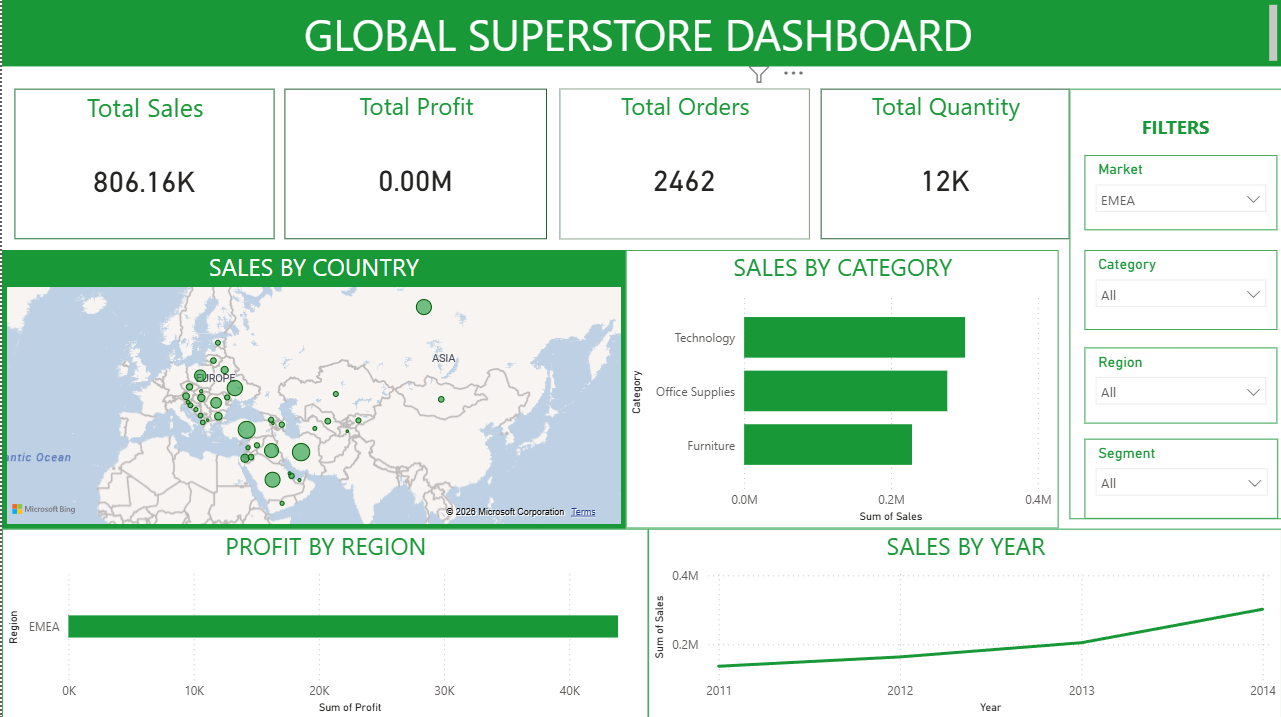

This screenshot's page, from the dashboard's own definition file:
{"tool":"powerbi","page":{"name":"Page 1","canvas":[1280,720],"ordinal":0},"visuals":[{"type":"card","title":"Total Sales","fields":{"Values":["Sum(Global_Superstore_Cleaned.Sales)"]},"box":[12.5,88.8,260,150],"z":0},{"type":"card","title":"Total Profit","fields":{"Values":["Count(Global_Superstore_Cleaned.Profit)"]},"box":[282.5,88.8,262.5,150],"z":1000},{"type":"card","title":"Total Orders","fields":{"Values":["Count(Global_Superstore_Cleaned.Order ID)"]},"box":[557.5,88.8,250,150],"z":2000},{"type":"card","title":"Total Quantity","fields":{"Values":["Sum(Global_Superstore_Cleaned.Quantity)"]},"box":[818.8,88.8,248.8,150],"z":3000},{"type":"textbox","box":[12.5,303.8,1267.5,87.5],"z":4000},{"type":"textbox","box":[12.5,487.5,1267.5,82.5],"z":5000},{"type":"textbox","box":[0,0,1280,66.2],"z":6000},{"type":"map","title":"SALES BY COUNTRY","fields":{"Category":["Global_Superstore_Cleaned.Country"],"Size":["Sum(Global_Superstore_Cleaned.Sales)"]},"box":[0,250,623.8,278.8],"z":7000},{"type":"textbox","title":"TITLE","box":[1067.5,88.8,212.5,430],"z":8000},{"type":"slicer","fields":{"Values":["Global_Superstore_Cleaned.Market"]},"box":[1082.5,155,192.5,75],"z":9000},{"type":"slicer","fields":{"Values":["Global_Superstore_Cleaned.Category"]},"box":[1082.5,250,192.5,80],"z":10000},{"type":"clusteredBarChart","title":"SALES BY CATEGORY","fields":{"Category":["Global_Superstore_Cleaned.Category"],"Y":["Sum(Global_Superstore_Cleaned.Sales)"]},"box":[623.8,250,432.5,278.8],"z":11000},{"type":"clusteredBarChart","title":"PROFIT BY REGION","fields":{"Category":["Global_Superstore_Cleaned.Region"],"Y":["Sum(Global_Superstore_Cleaned.Profit)"]},"box":[0,528.8,646.2,191.2],"z":12000},{"type":"lineChart","title":"SALES BY YEAR","fields":{"Category":["Global_Superstore_Cleaned.Order Date.Variation.Date Hierarchy.Year"],"Y":["Sum(Global_Superstore_Cleaned.Sales)"]},"box":[646.2,528.8,633.8,191.2],"z":13000},{"type":"slicer","fields":{"Values":["Global_Superstore_Cleaned.Region"]},"box":[1082.5,347.5,192.5,76.2],"z":14000},{"type":"slicer","fields":{"Values":["Global_Superstore_Cleaned.Segment"]},"box":[1082.5,438.8,193.8,80],"z":15000}]}

Visuals, with their boxes in screenshot pixels (x1, y1, x2, y2), scaled from the page's 1280x720 canvas onto the 1281x717 screenshot:
"Total Sales" card: Rect(13, 88, 273, 238)
"Total Profit" card: Rect(283, 88, 545, 238)
"Total Orders" card: Rect(558, 88, 808, 238)
"Total Quantity" card: Rect(819, 88, 1068, 238)
textbox: Rect(13, 303, 1280, 390)
textbox: Rect(13, 485, 1280, 568)
textbox: Rect(0, 0, 1280, 66)
"SALES BY COUNTRY" map: Rect(0, 249, 624, 527)
"TITLE" textbox: Rect(1068, 88, 1280, 517)
slicer - Global_Superstore_Cleaned.Market: Rect(1083, 154, 1276, 229)
slicer - Global_Superstore_Cleaned.Category: Rect(1083, 249, 1276, 329)
"SALES BY CATEGORY" clusteredBarChart: Rect(624, 249, 1057, 527)
"PROFIT BY REGION" clusteredBarChart: Rect(0, 527, 647, 716)
"SALES BY YEAR" lineChart: Rect(647, 527, 1280, 716)
slicer - Global_Superstore_Cleaned.Region: Rect(1083, 346, 1276, 422)
slicer - Global_Superstore_Cleaned.Segment: Rect(1083, 437, 1277, 517)
